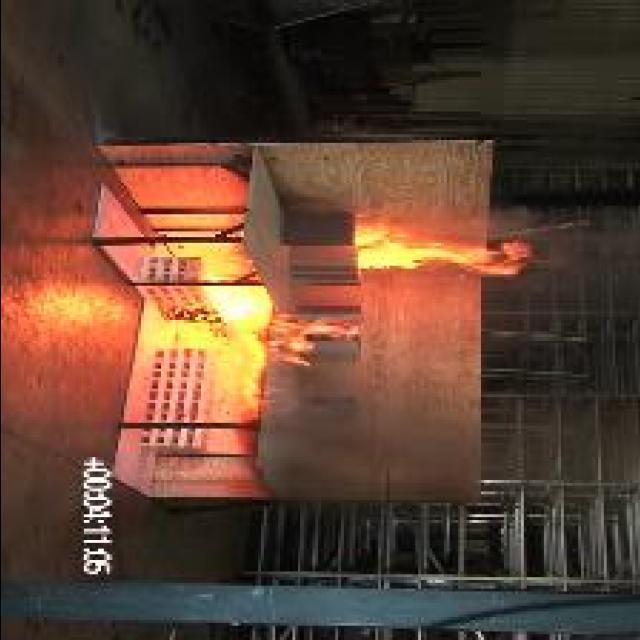Fire: (176, 289, 364, 417), (352, 225, 532, 278)
